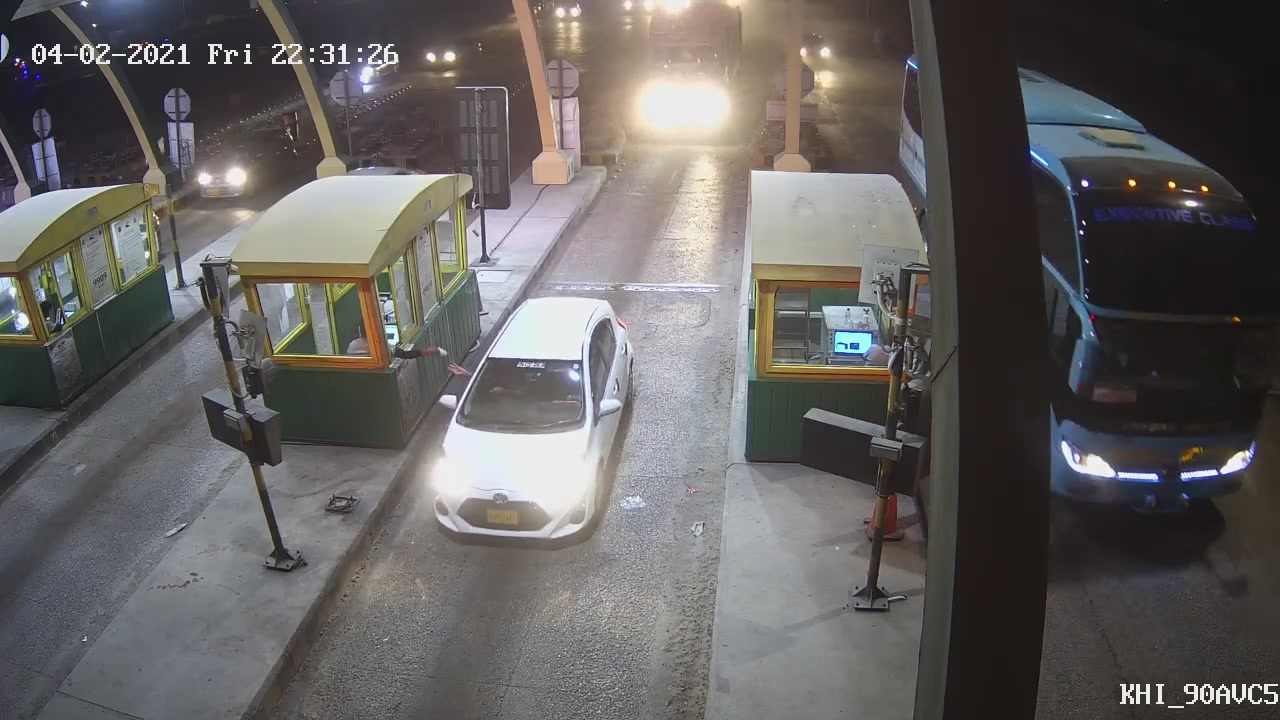F1: (428, 296, 639, 546)
